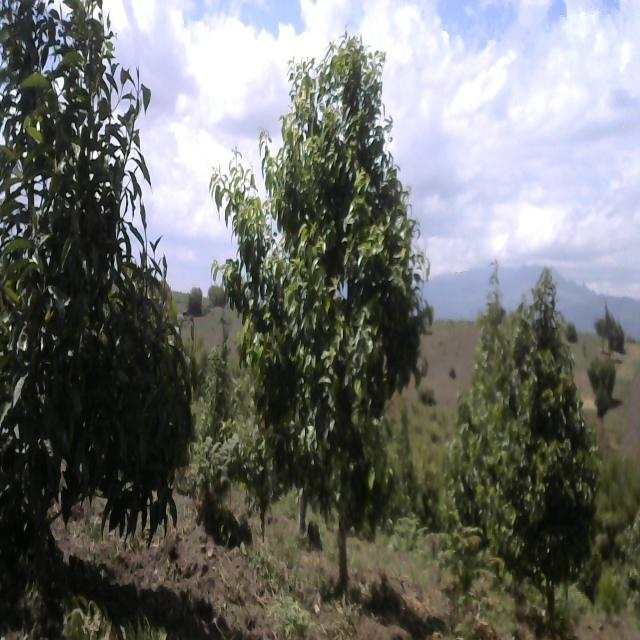Prunus Africana: (216, 44, 431, 636), (1, 0, 205, 612), (488, 258, 597, 640)
